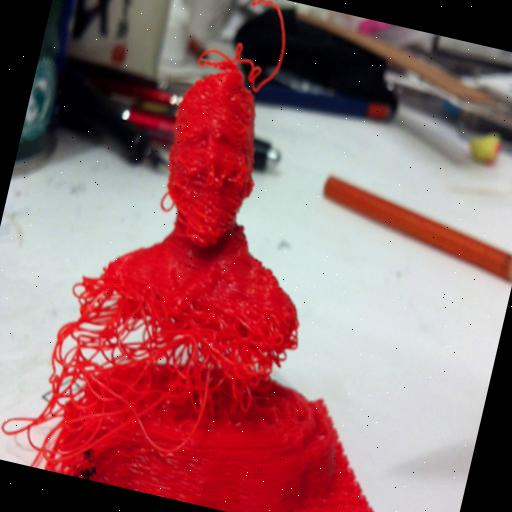spaghetti: (4, 252, 303, 512), (185, 0, 304, 99)
